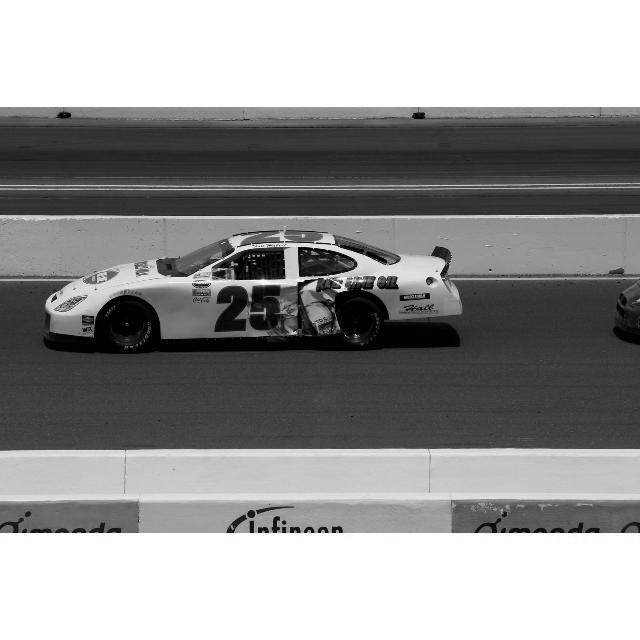quaterpanel-dent: (299, 271, 403, 341)
